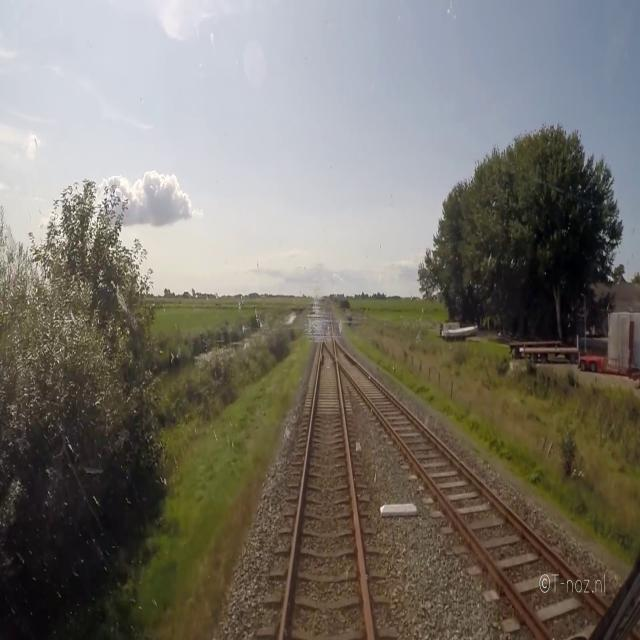rail-track: (336, 345, 602, 639), (283, 343, 369, 639), (325, 309, 333, 351)
